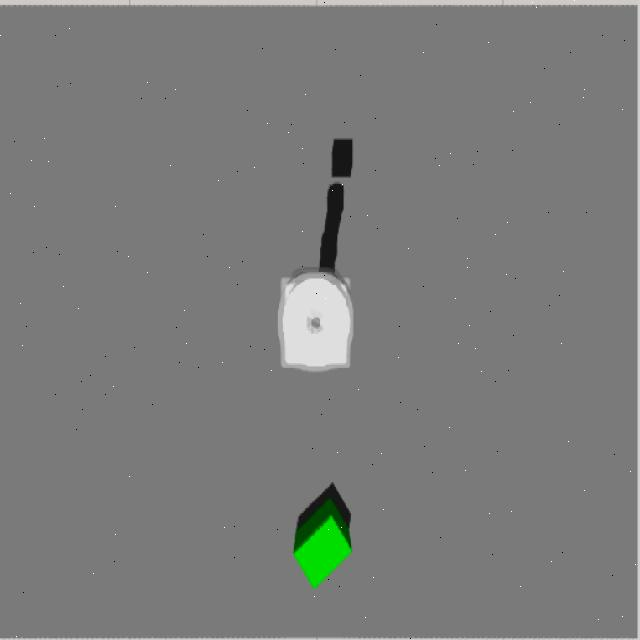box: (295, 485, 351, 588)
